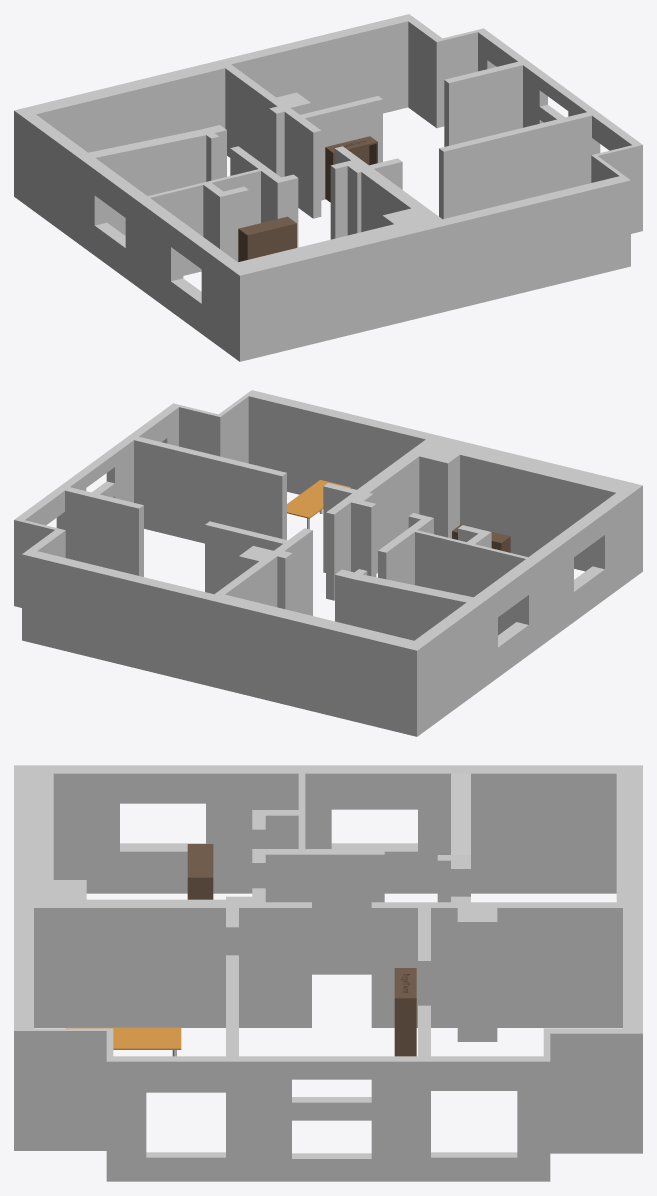
File: House.glb
The picture shows the model from 3 angles, top to bottom: view 1: azimuth 30°, elevation 25°; view 2: azimuth 150°, elevation 25°; view 3: azimuth 270°, elevation 25°; orthographic projection. The views are drawn at different scales.
Visible parts, largest first — view 1: Walls, Vitrine, RegalDami; view 2: Walls, Desk; view 3: Walls, RegalDami, Desk, Vitrine.
Boxes of the visible parts, box(x1,y1,x2,y2) form: Walls: box(14, 14, 642, 361); Vitrine: box(238, 216, 296, 261); RegalDami: box(325, 136, 377, 202); Walls: box(14, 390, 642, 736); Desk: box(287, 480, 350, 529); Walls: box(14, 765, 642, 1181); RegalDami: box(394, 968, 416, 1056); Desk: box(66, 1027, 181, 1056); Vitrine: box(187, 844, 213, 899).
Size of the model in its own units: 10.6 by 2 by 9.5.
